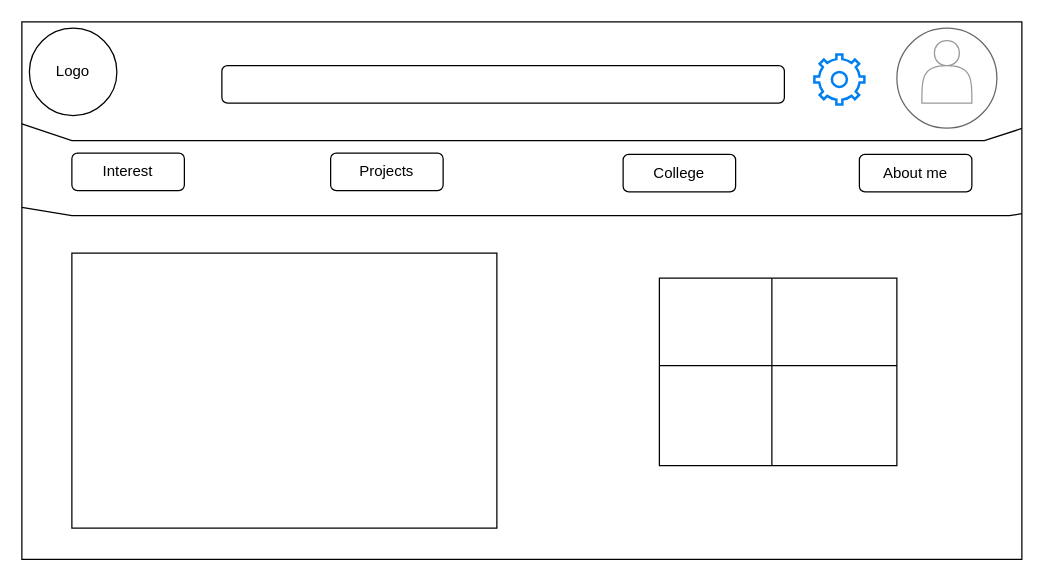
Image size: 1045x581. Some labels were removed from this diagram. Here are the shapes that lost their labels. From the top down, the centre of each, then its label:
At (x=502, y=83): "Search".
At (x=284, y=390): "text".
At (x=777, y=371): "PICTURES".
